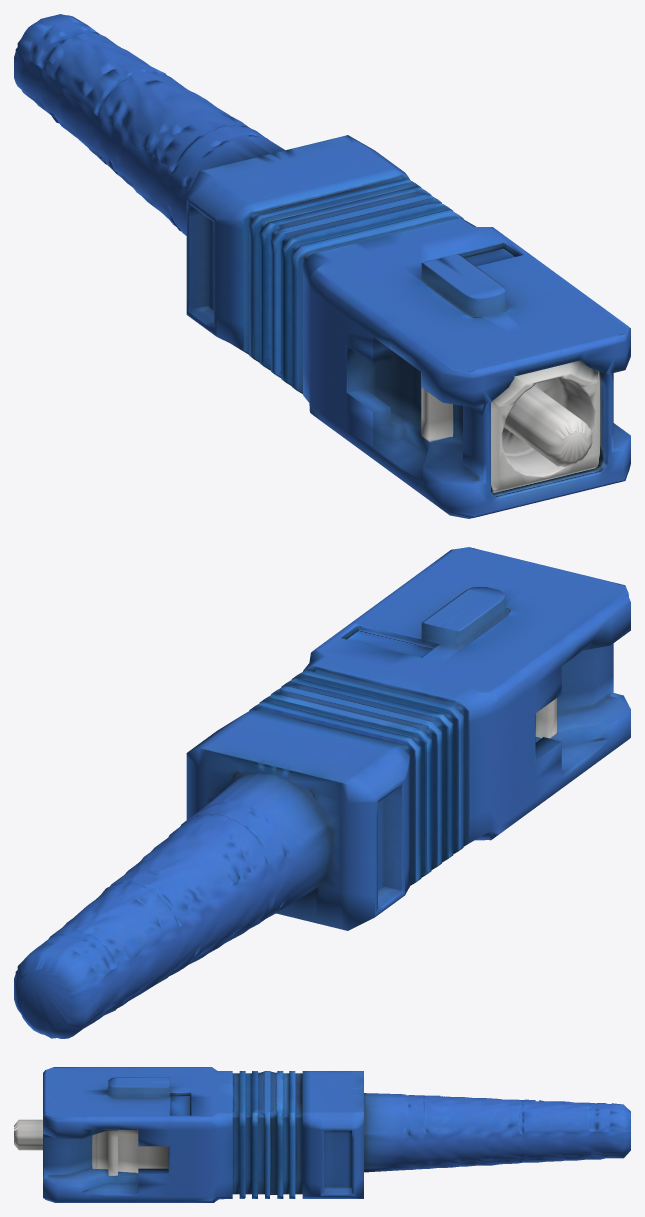
The model's file is pigtail.fbx.
3 renders of one model, top to bottom at view 1: azimuth 30°, elevation 25°; view 2: azimuth 150°, elevation 25°; view 3: azimuth 270°, elevation 25°, orthographic. The views are drawn at different scales.
Visible parts, largest first — view 1: tripo_node_a3481ea8; view 2: tripo_node_a3481ea8; view 3: tripo_node_a3481ea8.
Boxes of the visible parts, left/top/right/bottom form: tripo_node_a3481ea8: left=14, top=14, right=630, bottom=518; tripo_node_a3481ea8: left=14, top=547, right=630, bottom=1038; tripo_node_a3481ea8: left=14, top=1067, right=630, bottom=1202.
Size of the model in its own units: 0.2054 by 0.1702 by 0.9997.
1 material, 1 textured.
